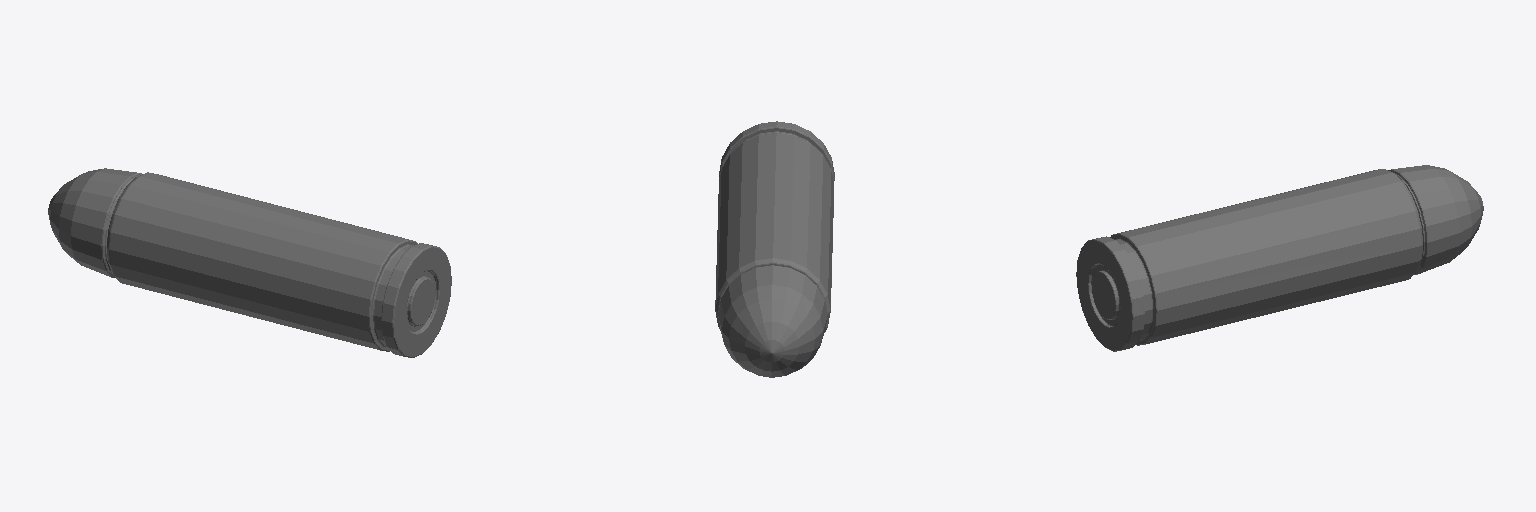
Rendered from Balle.obj.
3 renders of one model, left to right at view 1: azimuth 30°, elevation 25°; view 2: azimuth 150°, elevation 25°; view 3: azimuth 270°, elevation 25°, orthographic.
Visible parts, largest first — view 1: pCylinder4_Mesh; view 2: pCylinder4_Mesh; view 3: pCylinder4_Mesh.
Part boxes in pixels (x1,y1,x2,y2): pCylinder4_Mesh: (48,168,451,357); pCylinder4_Mesh: (715,121,834,377); pCylinder4_Mesh: (1076,165,1483,351).
Size of the model in its own units: 0.1506 by 0.0632 by 0.2173.